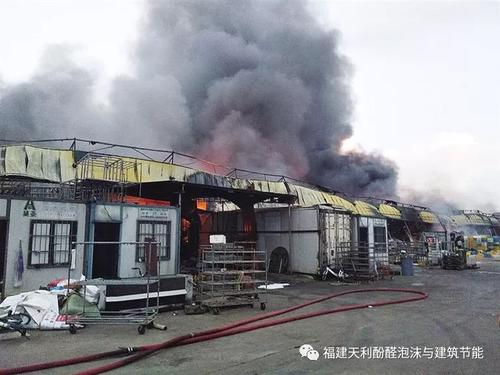smoke: (96, 4, 395, 187)
